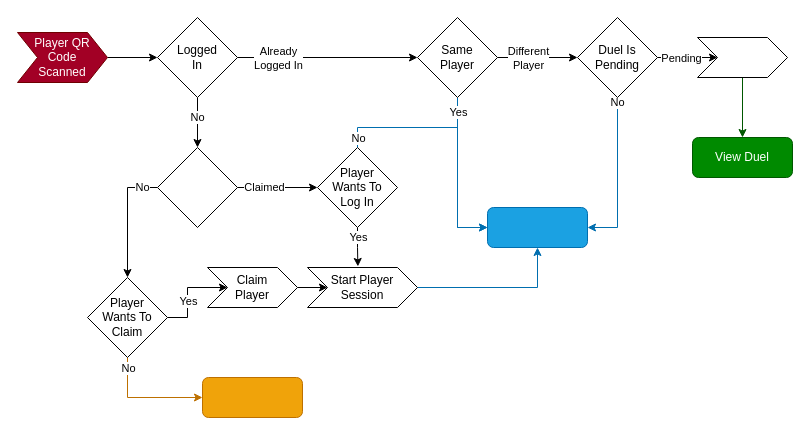
Image size: 810x435. Some labels were removed from this diagram. The centre of each missing label's shape, as x and y in pixels:
"Connect Duel" belongs at (742,57).
"Player Claimed" belongs at (197,187).
"View Dashboard" belongs at (252,397).
"View Profile" belongs at (537,227).
